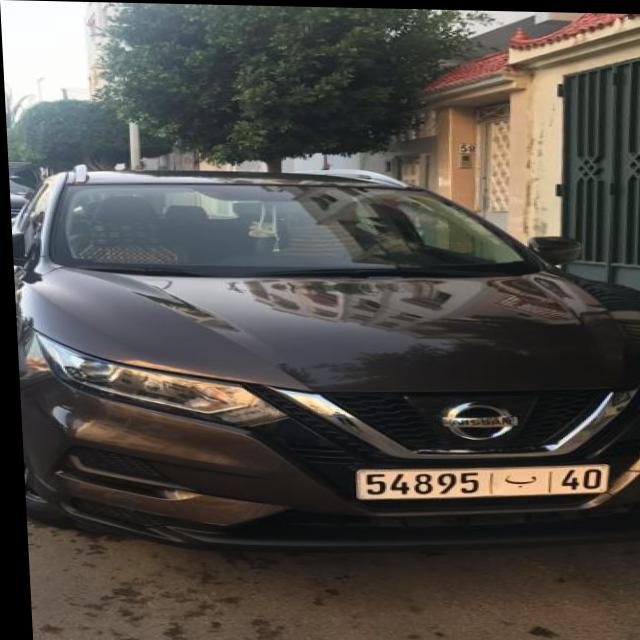License-Plate: (350, 461, 605, 498)
